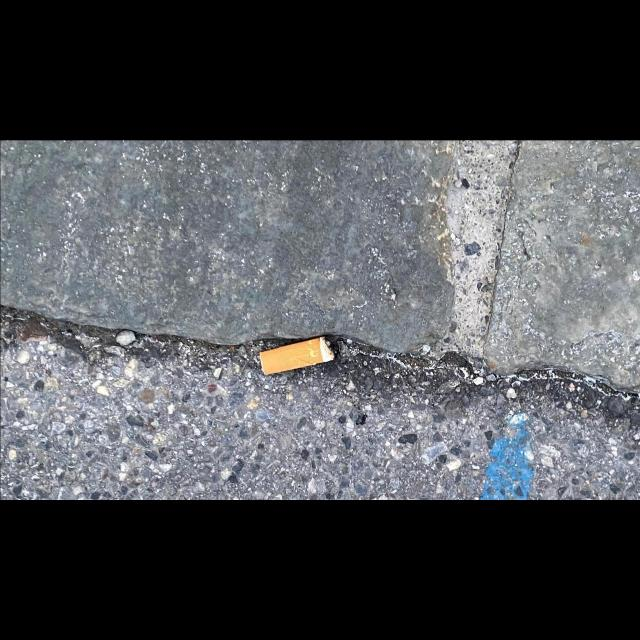cigarette: (259, 335, 337, 376)
